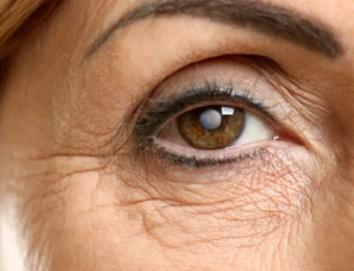eye: (178, 102, 247, 150)
